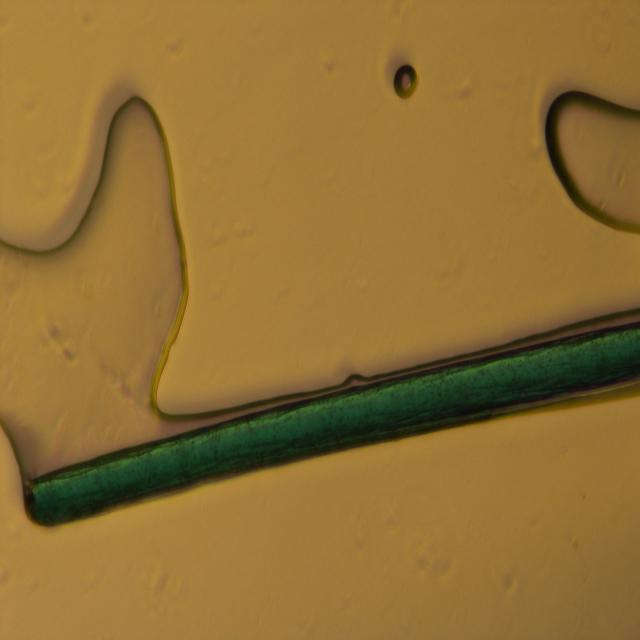Air bubble: (0, 93, 198, 434), (542, 83, 640, 240), (388, 63, 421, 102)
Microfibre: (25, 316, 640, 529)
